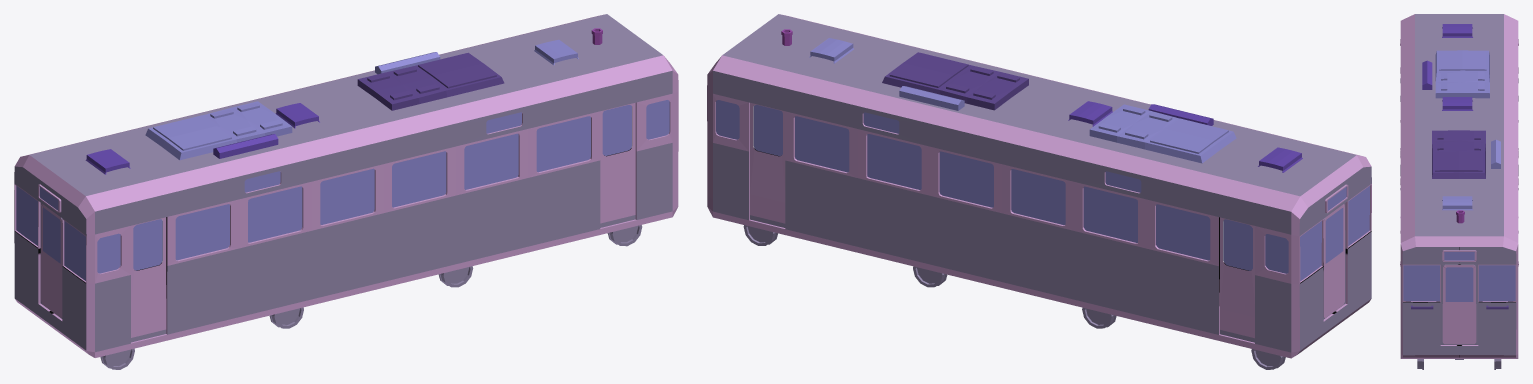
Rendered from newTrain.obj.
The picture shows the model from 3 angles, left to right: view 1: azimuth 30°, elevation 25°; view 2: azimuth 150°, elevation 25°; view 3: azimuth 270°, elevation 25°; orthographic projection. The views are drawn at different scales.
Visible parts, largest first — view 1: Cube_Cube.001, Cube.001_Cube.002, Cube.004_Cube.005, Cylinder.001_Cylinder.005, Cube.005_Cube.006, Cube.007_Cube.008, Cube.002_Cube.003, Cube.006_Cube.007, Cube.003_Cube.004; view 2: Cube_Cube.001, Cube.004_Cube.005, Cube.001_Cube.002, Cylinder.004, Cube.003_Cube.004, Cube.002_Cube.003, Cube.007_Cube.008, Cube.006_Cube.007, Cube.005_Cube.006; view 3: Cube_Cube.001, Cube.001_Cube.002, Cube.004_Cube.005, Cube.002_Cube.003, Cube.006_Cube.007, Cube.007_Cube.008, Cube.005_Cube.006, Cube.003_Cube.004, Cylinder_Cylinder.006.
Boxes of the visible parts, <box> form: Cube_Cube.001: <box>14,14,678,357</box>; Cube.001_Cube.002: <box>357,52,504,110</box>; Cube.004_Cube.005: <box>145,101,292,160</box>; Cylinder.001_Cylinder.005: <box>100,225,642,369</box>; Cube.005_Cube.006: <box>213,134,278,158</box>; Cube.007_Cube.008: <box>85,149,130,174</box>; Cube.002_Cube.003: <box>534,39,578,65</box>; Cube.006_Cube.007: <box>275,103,319,128</box>; Cube.003_Cube.004: <box>375,52,440,74</box>; Cube_Cube.001: <box>707,14,1371,358</box>; Cube.004_Cube.005: <box>1089,104,1236,163</box>; Cube.001_Cube.002: <box>882,52,1028,110</box>; Cylinder.004: <box>743,225,1285,369</box>; Cube.003_Cube.004: <box>899,86,964,110</box>; Cube.002_Cube.003: <box>809,38,853,63</box>; Cube.007_Cube.008: <box>1258,147,1302,172</box>; Cube.006_Cube.007: <box>1068,101,1112,126</box>; Cube.005_Cube.006: <box>1148,104,1213,125</box>; Cube_Cube.001: <box>1400,14,1518,359</box>; Cube.001_Cube.002: <box>1432,130,1485,178</box>; Cube.004_Cube.005: <box>1435,50,1489,98</box>; Cube.002_Cube.003: <box>1442,196,1472,210</box>; Cube.006_Cube.007: <box>1442,97,1473,110</box>; Cube.007_Cube.008: <box>1442,24,1472,37</box>; Cube.005_Cube.006: <box>1422,60,1432,89</box>; Cube.003_Cube.004: <box>1491,139,1500,168</box>; Cylinder_Cylinder.006: <box>1456,210,1464,223</box>.
Bounding box in the file's own units: 53.12 × 16.75 × 11.59.
